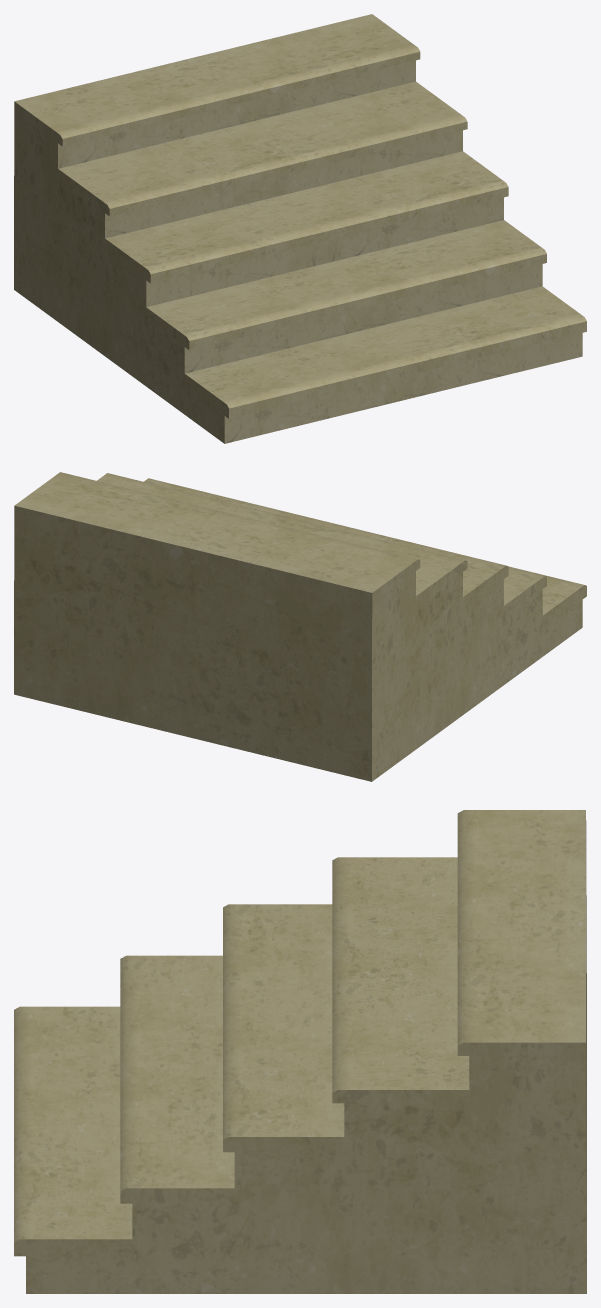
Rendered from Stairs_Entrance_Marble.gltf.
The picture shows the model from 3 angles, top to bottom: view 1: azimuth 30°, elevation 25°; view 2: azimuth 150°, elevation 25°; view 3: azimuth 270°, elevation 25°; orthographic projection. The views are drawn at different scales.
Parts seen in each view (by area): view 1: Stairs_Entrance_Marble; view 2: Stairs_Entrance_Marble; view 3: Stairs_Entrance_Marble.
Boxes of the visible parts, x1,y1,x2,y2 form: Stairs_Entrance_Marble: (14,14,586,443); Stairs_Entrance_Marble: (14,472,586,781); Stairs_Entrance_Marble: (14,810,586,1293).
Size of the model in its own units: 2 by 1.01 by 2.08.
Materials: 1 (1 with a texture image).
